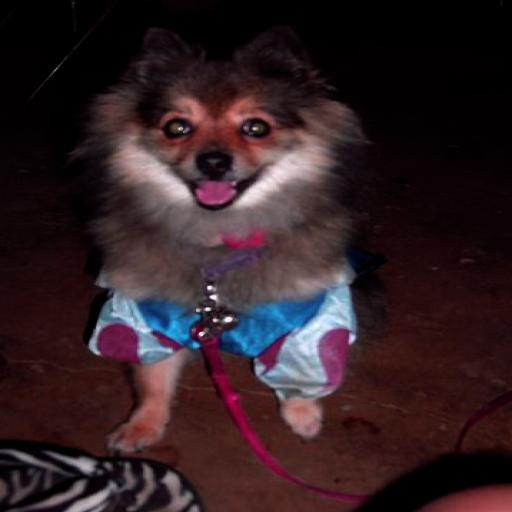dog_face: (115, 28, 324, 210)
